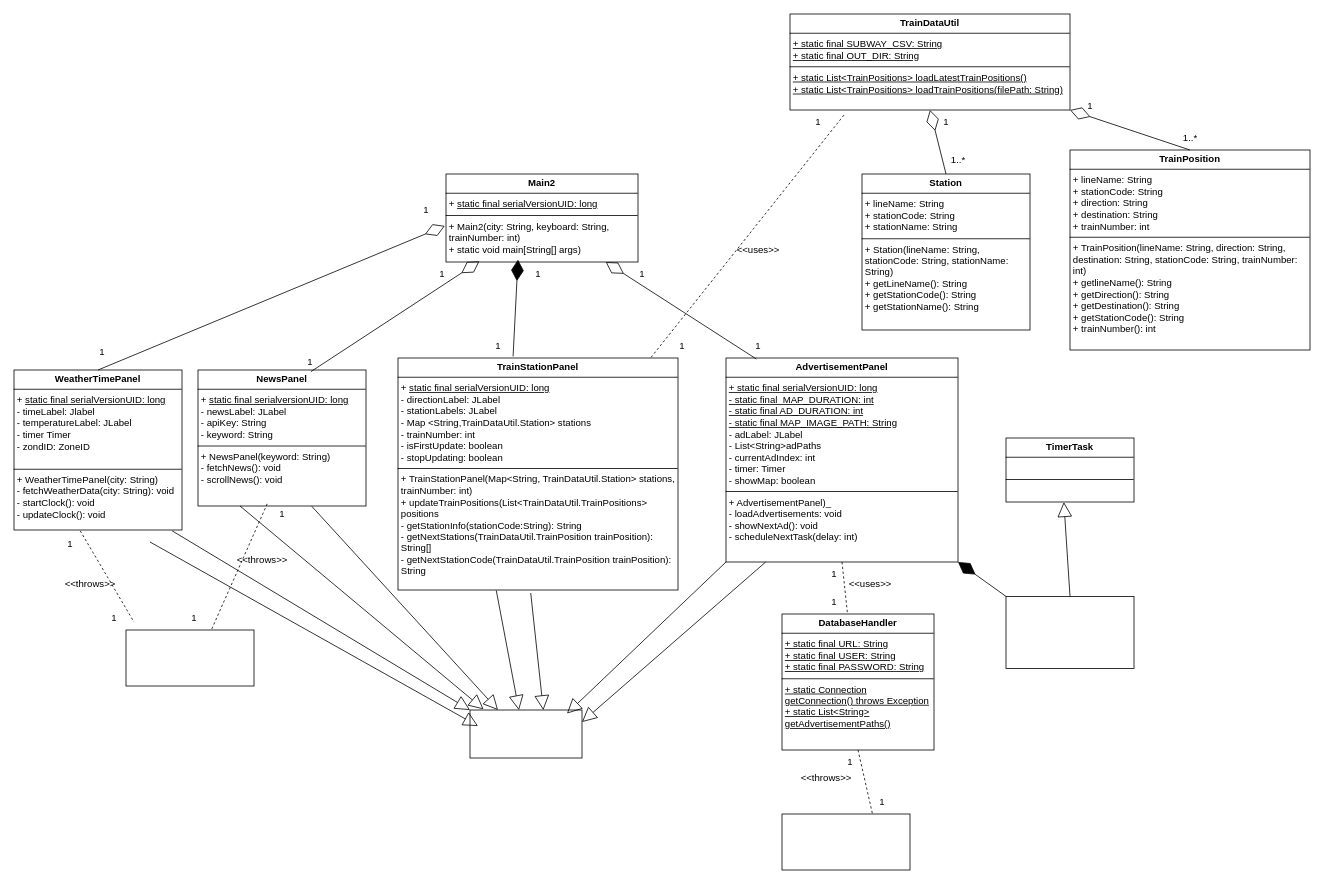
The diagram is 1324 pixels wide and 884 high, and some of its shapes have lost their labels. Each missing label, with the centre of its shape:
AdTask + run(): void: (1069,632)
IOException: (189,657)
JPANEL: (525,733)
SQLException: (845,841)
